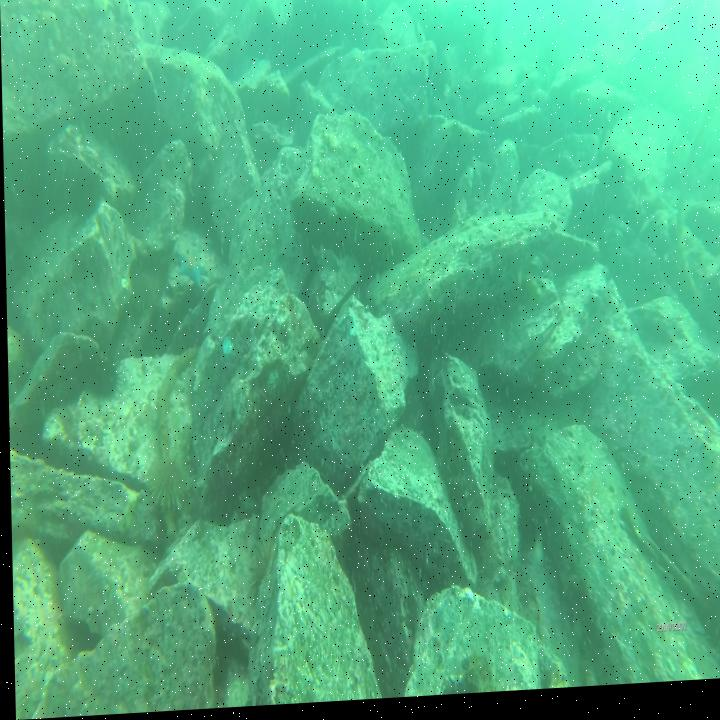echinus: (143, 461, 192, 519), (244, 544, 275, 598)
starfish: (172, 245, 206, 289)
